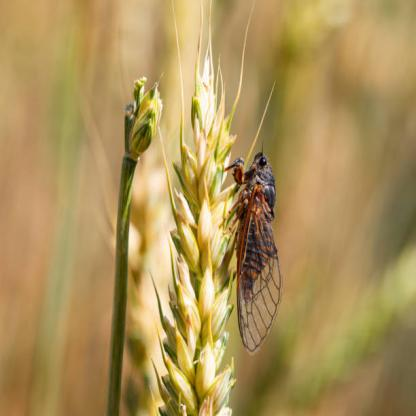sawfly: (215, 132, 285, 354)
